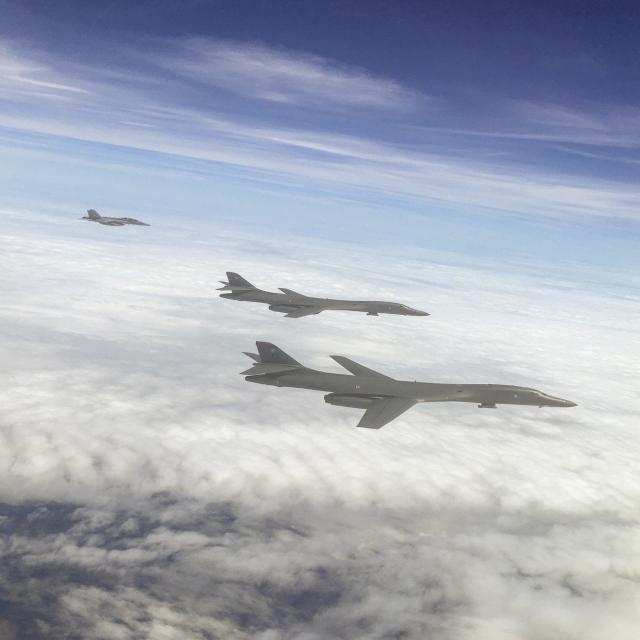MIL_Plane: (239, 340, 578, 429), (214, 271, 431, 318), (76, 209, 152, 226)
